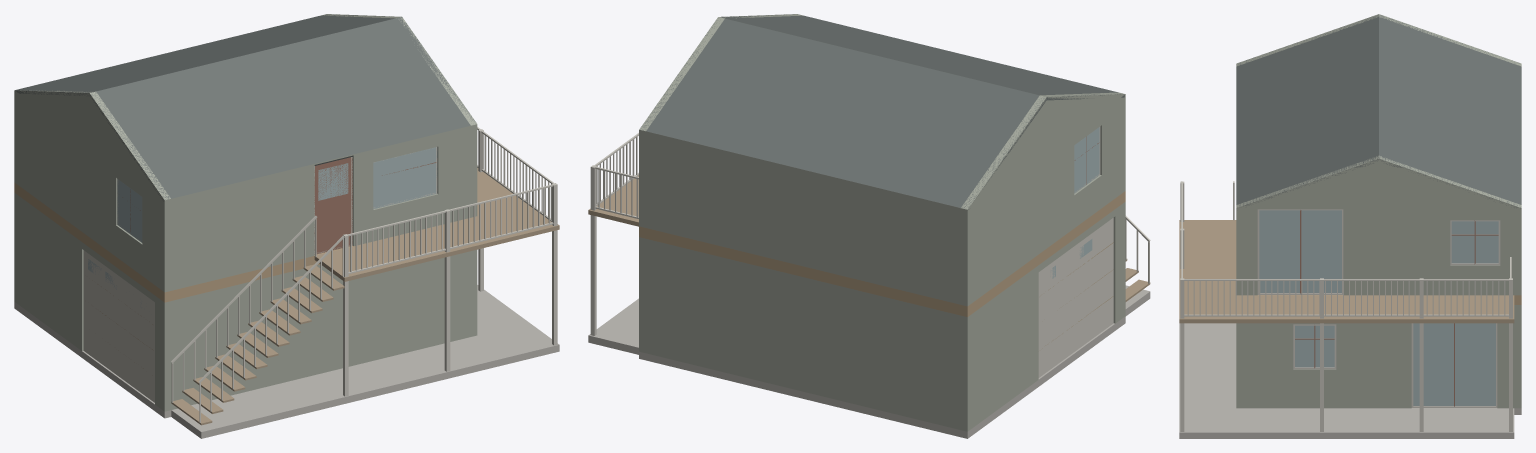
The model's file is adu-option-f.glb.
The picture shows the model from 3 angles, left to right: view 1: azimuth 30°, elevation 25°; view 2: azimuth 150°, elevation 25°; view 3: azimuth 270°, elevation 25°; orthographic projection. The views are drawn at different scales.
Visible parts, largest first — view 1: South roof plane flush west, L1 south wall end, L2 south wall pier 0, L2 west wall end, Ground south covered patio, Garage overhead door, L1 west wall end, North roof plane flush north-west, Upper south landing, South stair ground landing, west gable wall, L2 south wall end (+23 smaller); view 2: North roof plane flush north-west, L1 north wall end, L2 north wall end, L2 west wall end, Garage overhead door, L1 west wall end, South roof plane flush west, Level 2 floor assembly 20x24, west gable wall, Level 1 slab 20x24, L2 west wall pier 0, Ground east patio 4ft (+8 smaller); view 3: South roof plane flush west, North roof plane flush north-west, L2 east wall pier 1, Ground east patio 4ft, east gable wall, Upper east patio 4ft, L1 east 6ft slider, L1 east wall pier 1, L2 east 6ft slider, Ground south covered patio, Upper south landing, L1 east wall pier 0 (+20 smaller).
Part boxes in pixels (x1=…): South roof plane flush west: x1=89, y1=17, x2=476, y2=201; L1 south wall end: x1=161, y1=250, x2=477, y2=411; L2 south wall pier 0: x1=161, y1=164, x2=314, y2=292; L2 west wall end: x1=18, y1=93, x2=117, y2=256; Ground south covered patio: x1=315, y1=323, x2=559, y2=403; Garage overhead door: x1=83, y1=250, x2=154, y2=402; L1 west wall end: x1=18, y1=195, x2=83, y2=350; North roof plane flush north-west: x1=15, y1=14, x2=394, y2=95; Upper south landing: x1=314, y1=204, x2=559, y2=281; South stair ground landing: x1=171, y1=375, x2=344, y2=438; west gable wall: x1=15, y1=90, x2=170, y2=200; L2 south wall end: x1=437, y1=124, x2=477, y2=225; North roof plane flush north-west: x1=640, y1=18, x2=1046, y2=209; L1 north wall end: x1=639, y1=237, x2=971, y2=431; L2 north wall end: x1=639, y1=129, x2=971, y2=306; L2 west wall end: x1=971, y1=132, x2=1074, y2=302; Garage overhead door: x1=1038, y1=218, x2=1113, y2=377; L1 west wall end: x1=971, y1=265, x2=1038, y2=428; South roof plane flush west: x1=721, y1=14, x2=1124, y2=100; Level 2 floor assembly 20x24: x1=639, y1=191, x2=1125, y2=316; west gable wall: x1=961, y1=92, x2=1125, y2=209; Level 1 slab 20x24: x1=639, y1=316, x2=1125, y2=438; L2 west wall pier 0: x1=1100, y1=97, x2=1121, y2=207; Ground east patio 4ft: x1=588, y1=298, x2=638, y2=354; South roof plane flush west: x1=1236, y1=14, x2=1378, y2=207; North roof plane flush north-west: x1=1379, y1=15, x2=1521, y2=208; L2 east wall pier 1: x1=1343, y1=208, x2=1450, y2=295; Ground east patio 4ft: x1=1236, y1=408, x2=1514, y2=438; east gable wall: x1=1236, y1=155, x2=1521, y2=207; Upper east patio 4ft: x1=1236, y1=295, x2=1514, y2=323; L1 east 6ft slider: x1=1413, y1=323, x2=1495, y2=405; L1 east wall pier 1: x1=1336, y1=323, x2=1411, y2=408; L2 east 6ft slider: x1=1259, y1=210, x2=1341, y2=292; Ground south covered patio: x1=1179, y1=333, x2=1236, y2=438; Upper south landing: x1=1179, y1=220, x2=1236, y2=323; L1 east wall pier 0: x1=1243, y1=323, x2=1293, y2=408.
Size of the model in its own units: 8.53 by 6.05 by 7.32.
